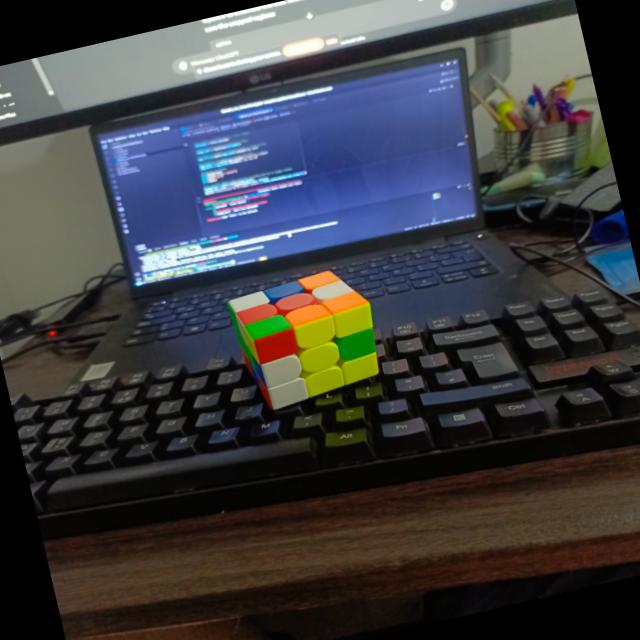rubik: (221, 260, 390, 415)
